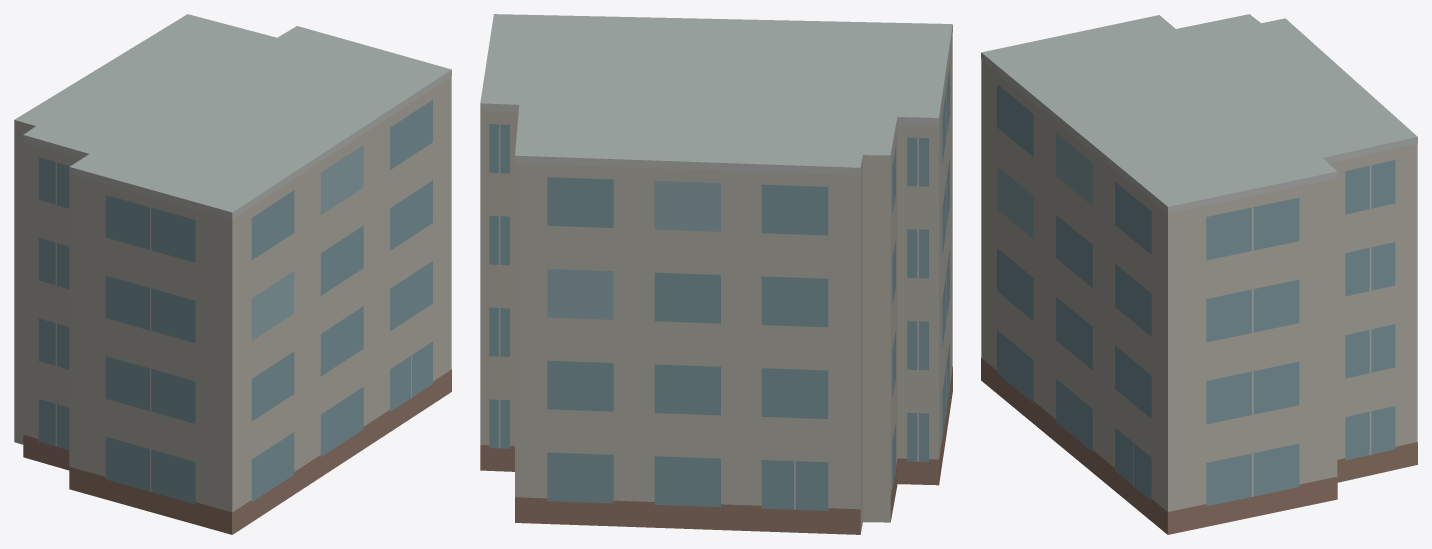
File: survey-upis-32748313.glb
3 views of the same model, side by side, from view 1: azimuth 30°, elevation 25°; view 2: azimuth 150°, elevation 25°; view 3: azimuth 270°, elevation 25° (orthographic). The views are drawn at different scales.
Visible parts, largest first — view 1: survey-upis-32748313.tmp; view 2: survey-upis-32748313.tmp; view 3: survey-upis-32748313.tmp.
Boxes of the visible parts, box(x1,y1,x2,y2) form: survey-upis-32748313.tmp: box(14, 14, 451, 534); survey-upis-32748313.tmp: box(480, 14, 952, 534); survey-upis-32748313.tmp: box(981, 14, 1417, 534).
Size of the model in its own units: 14.76 by 11.7 by 14.13.
